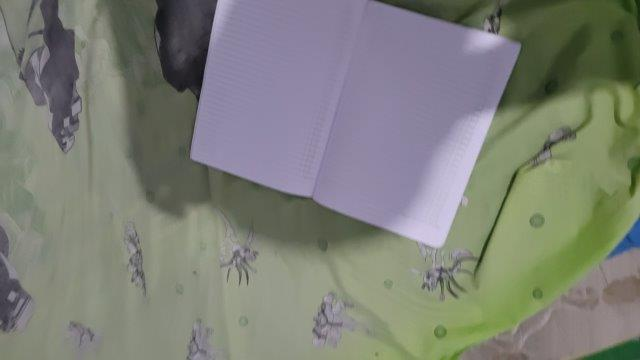kertas: (191, 1, 522, 249)
